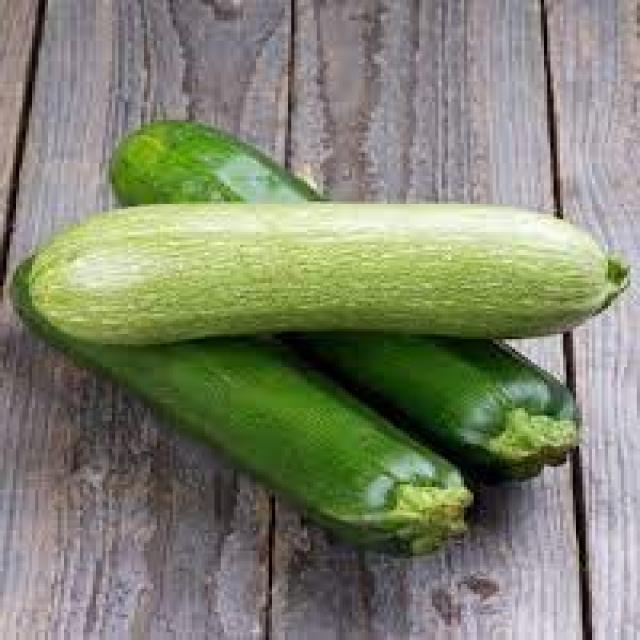zucchini: (29, 207, 627, 345)
